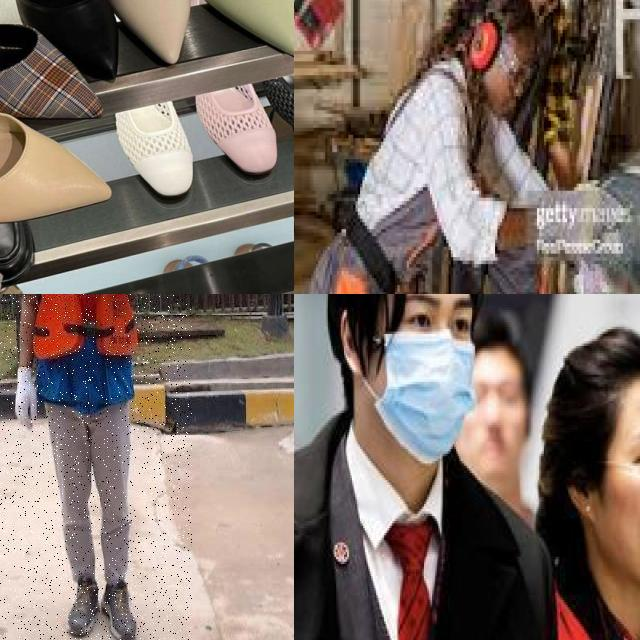Ear-protection: (465, 13, 500, 76)
No_Ear-Protection: (340, 303, 370, 382)
Sandals: (0, 32, 112, 236), (0, 0, 132, 138), (0, 0, 132, 97), (65, 0, 205, 85), (147, 0, 294, 72)
boots: (97, 577, 141, 640), (68, 570, 103, 640)
face_mask: (371, 294, 476, 465)
face_nomask: (459, 346, 528, 483), (596, 417, 640, 590)
glasses: (500, 44, 532, 82)
head_nohelmet: (582, 329, 640, 420)
person: (294, 294, 545, 640), (294, 0, 539, 294), (0, 294, 192, 640), (531, 324, 640, 640)
vest: (25, 294, 144, 417)
